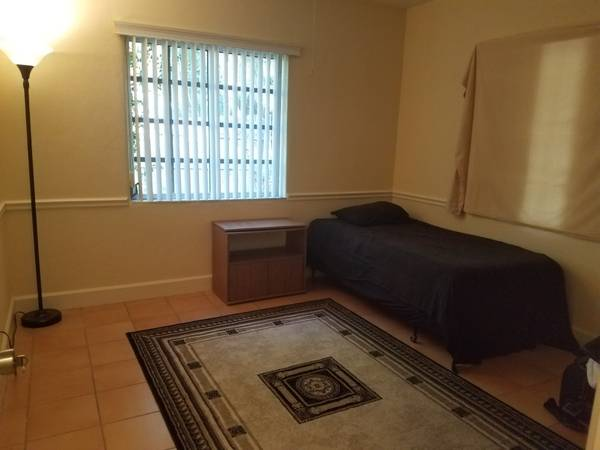bed: (311, 212, 567, 368)
floor lamp: (1, 47, 65, 327)
night stand: (213, 219, 313, 305)
